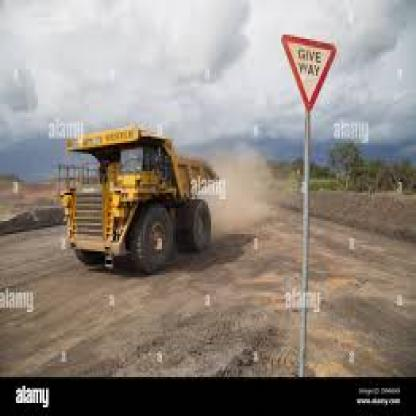dump_truck: (56, 119, 244, 282)
